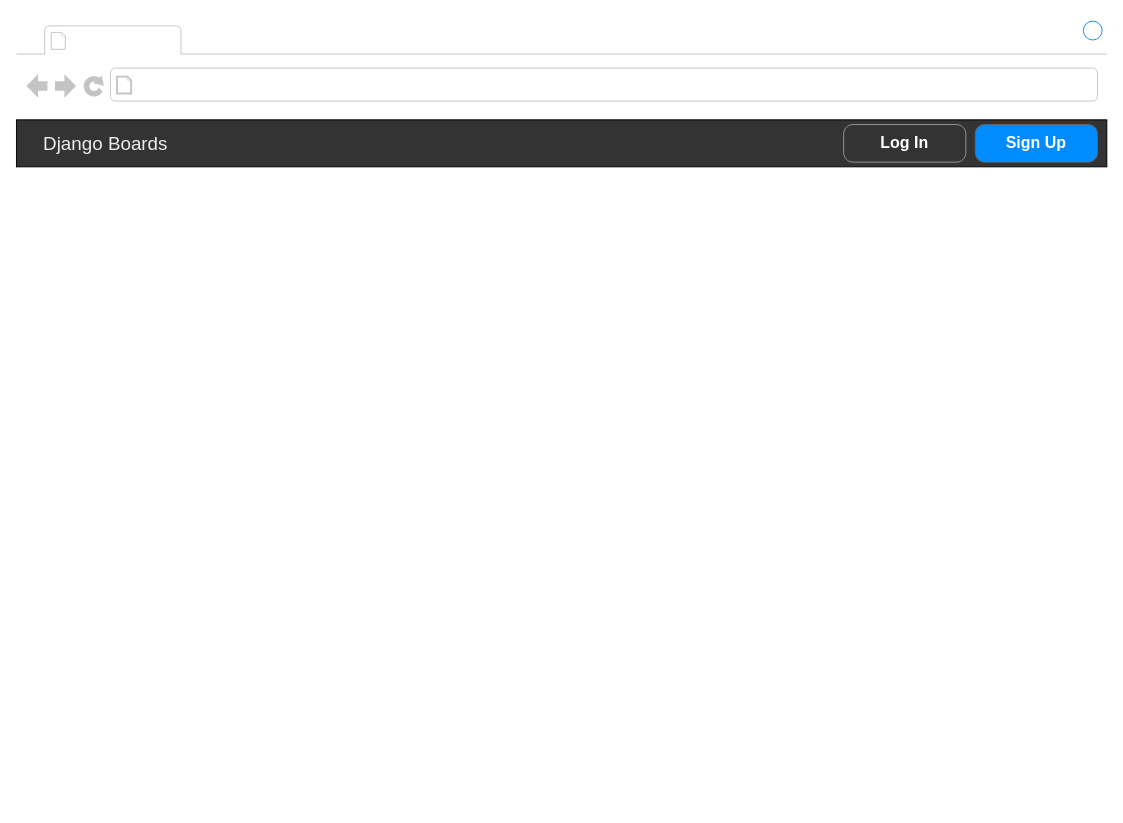
Image size: 1123x823. Some labels were removed from this diagram. Each missing label, with the centre of its shape:
Boards: pixel 124 39
https://www.example.com: pixel 256 84
